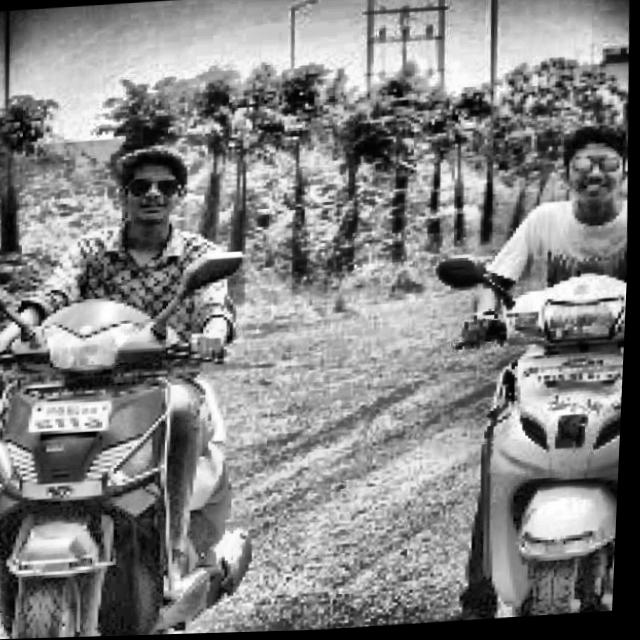motorcycle: (0, 248, 265, 640), (419, 247, 631, 625)
